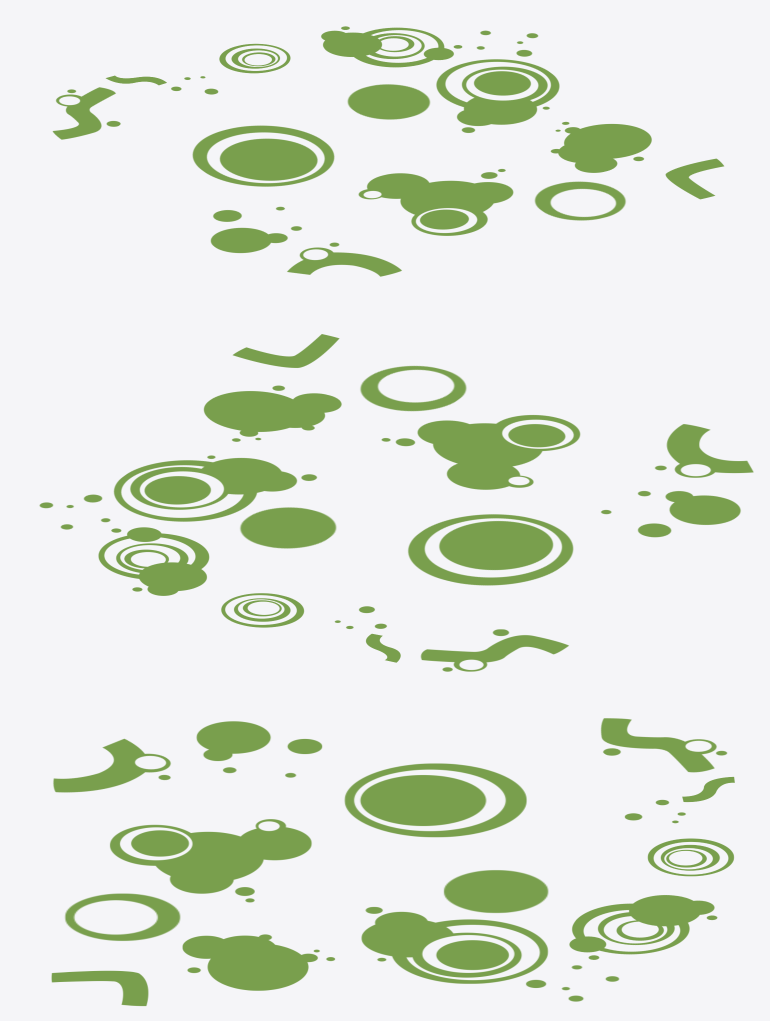
3 renders of one model, top to bottom at view 1: azimuth 30°, elevation 25°; view 2: azimuth 150°, elevation 25°; view 3: azimuth 270°, elevation 25°, orthographic. The views are drawn at different scales.
Visible parts, largest first — view 1: Road_Plane_14, Road_Plane_01, Road_Plane_13, Road_Plane_03, Road_Plane_02, Road_Plane_11, Road_Plane_18, Road_Plane_05, Road_Plane_04, Road_Plane_12, Road_Plane_07, Road_Plane_19; view 2: Road_Plane_14, Road_Plane_01, Road_Plane_13, Road_Plane_03, Road_Plane_02, Road_Plane_11, Road_Plane_18, Road_Plane_04, Road_Plane_05, Road_Plane_12, Road_Plane_07, Road_Plane_19; view 3: Road_Plane_14, Road_Plane_01, Road_Plane_13, Road_Plane_03, Road_Plane_02, Road_Plane_11, Road_Plane_18, Road_Plane_05, Road_Plane_04, Road_Plane_12, Road_Plane_07, Road_Plane_19.
Part boxes in pixels (<box>): Road_Plane_14: <box>192,125,334,186</box>; Road_Plane_01: <box>358,169,513,235</box>; Road_Plane_13: <box>436,59,559,132</box>; Road_Plane_03: <box>550,122,651,172</box>; Road_Plane_02: <box>321,26,462,67</box>; Road_Plane_11: <box>347,84,430,119</box>; Road_Plane_18: <box>210,206,301,252</box>; Road_Plane_05: <box>287,242,401,276</box>; Road_Plane_04: <box>52,87,120,139</box>; Road_Plane_12: <box>534,181,625,220</box>; Road_Plane_07: <box>665,158,723,199</box>; Road_Plane_19: <box>219,43,290,73</box>; Road_Plane_14: <box>408,514,573,585</box>; Road_Plane_01: <box>381,415,580,489</box>; Road_Plane_13: <box>114,455,316,521</box>; Road_Plane_03: <box>203,385,341,441</box>; Road_Plane_02: <box>98,527,209,595</box>; Road_Plane_11: <box>240,507,336,548</box>; Road_Plane_18: <box>601,491,740,537</box>; Road_Plane_04: <box>420,629,568,671</box>; Road_Plane_05: <box>655,424,753,477</box>; Road_Plane_12: <box>360,366,466,411</box>; Road_Plane_07: <box>233,334,339,367</box>; Road_Plane_19: <box>221,593,303,627</box>; Road_Plane_14: <box>344,763,526,837</box>; Road_Plane_01: <box>109,819,311,902</box>; Road_Plane_13: <box>361,906,548,983</box>; Road_Plane_03: <box>182,934,335,990</box>; Road_Plane_02: <box>569,895,717,959</box>; Road_Plane_11: <box>443,870,548,913</box>; Road_Plane_18: <box>196,721,322,777</box>; Road_Plane_05: <box>53,738,170,792</box>; Road_Plane_04: <box>601,718,726,772</box>; Road_Plane_12: <box>64,893,180,940</box>; Road_Plane_07: <box>51,970,148,1005</box>; Road_Plane_19: <box>647,838,734,876</box>.
Size of the model in its own units: 10.6 by 3.72e-17 by 10.93.
Materials: 1 (1 with a texture image).
